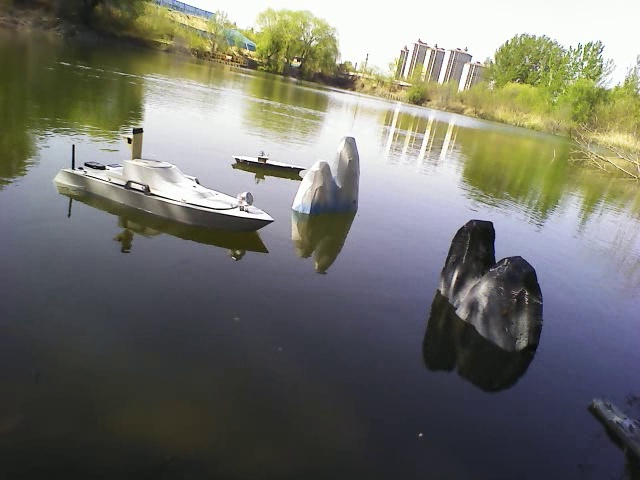aircraft_carrier: (228, 145, 305, 178)
boat: (48, 150, 276, 241)
iceberg: (295, 133, 368, 220)
rock: (433, 216, 547, 361)
warship: (592, 393, 637, 450)
